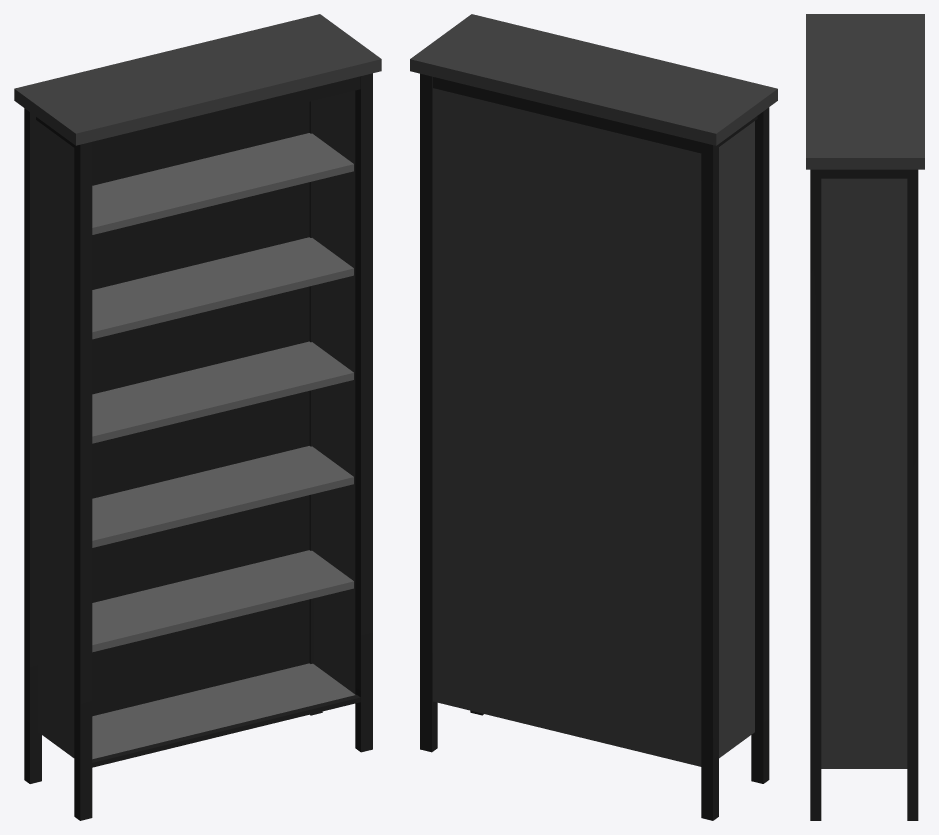
The model's file is shelf_048.glb.
The picture shows the model from 3 angles, left to right: view 1: azimuth 30°, elevation 25°; view 2: azimuth 150°, elevation 25°; view 3: azimuth 270°, elevation 25°; orthographic projection. The views are drawn at different scales.
Visible parts, largest first — view 1: shelf_048; view 2: shelf_048; view 3: shelf_048.
Boxes of the visible parts, x1,y1,x2,y2 form: shelf_048: [14, 14, 381, 820]; shelf_048: [410, 14, 777, 820]; shelf_048: [806, 14, 924, 820].
Size of the model in its own units: 0.9208 by 1.99 by 0.3214.
Materials: 1 (1 with a texture image).
